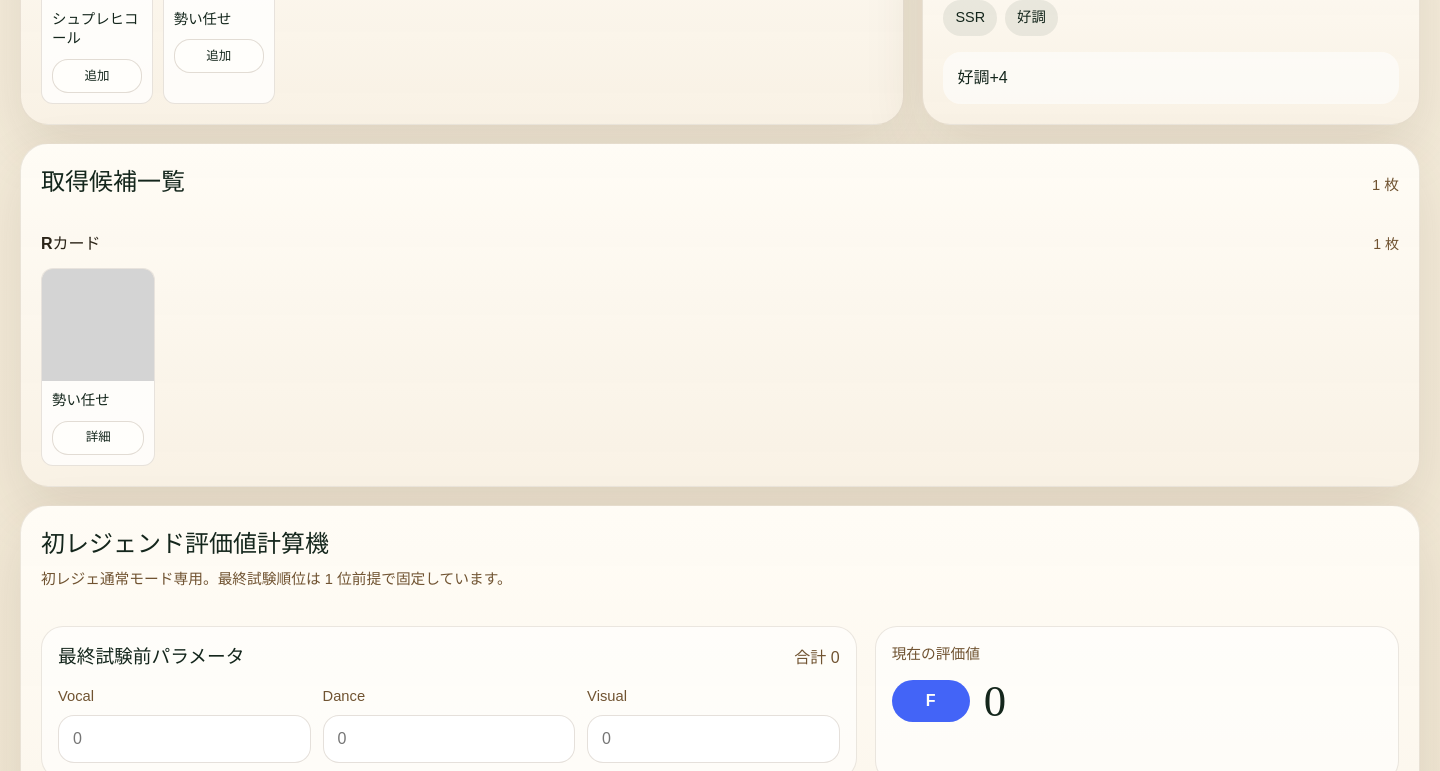
Test: AppShell › shows candidate details in the result-side detail panel when a candidate is clicked
(page scrolled)
Check: the element with class "result-workspace" is shown, box x1=20 y1=143 x2=1420 y2=487
Click the button with aria-label "勢い任せを詳細表示" at coordinates (98, 367), box x1=41 y1=268 x2=155 y2=466
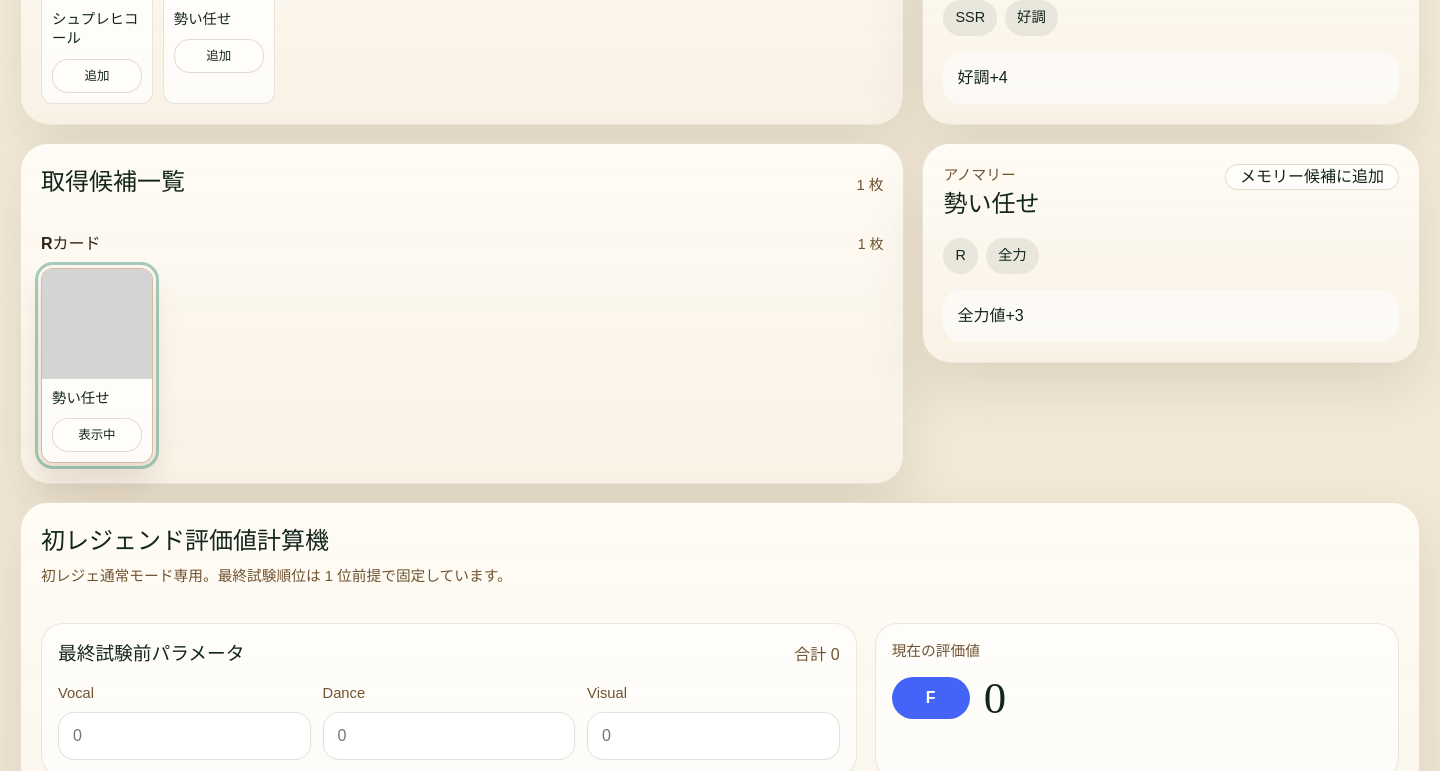
Check: the element with class "detail-panel" that starts with "アノマリー" is shown, box x1=922 y1=143 x2=1420 y2=363
Check: the heading "勢い任せ" below "アノマリー" is shown, box x1=944 y1=191 x2=1040 y2=217
Check: the text "全力値+3" is shown, box x1=958 y1=307 x2=1024 y2=324
